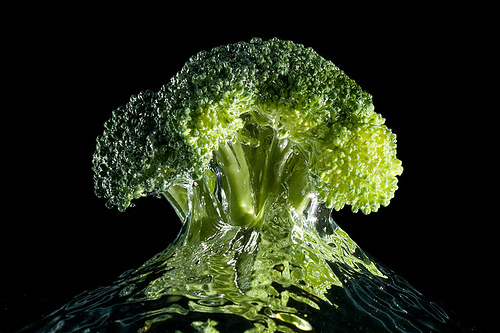broccoli: (89, 35, 402, 227)
